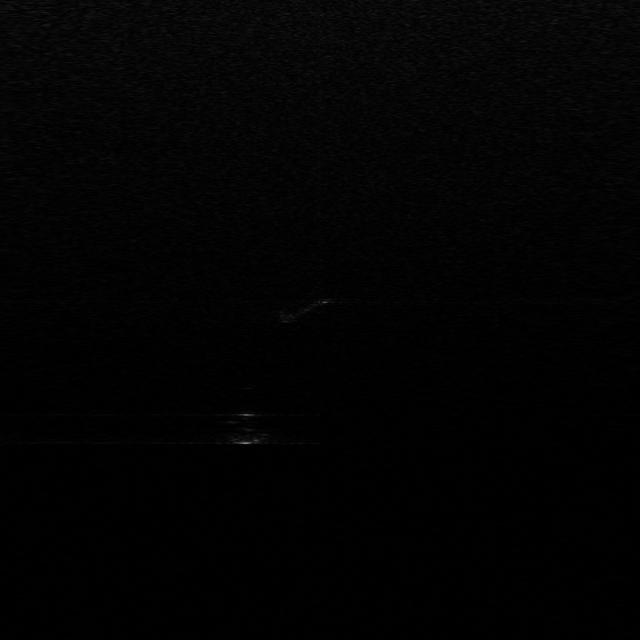ball: (218, 414, 276, 444)
tyre: (280, 288, 332, 323)
